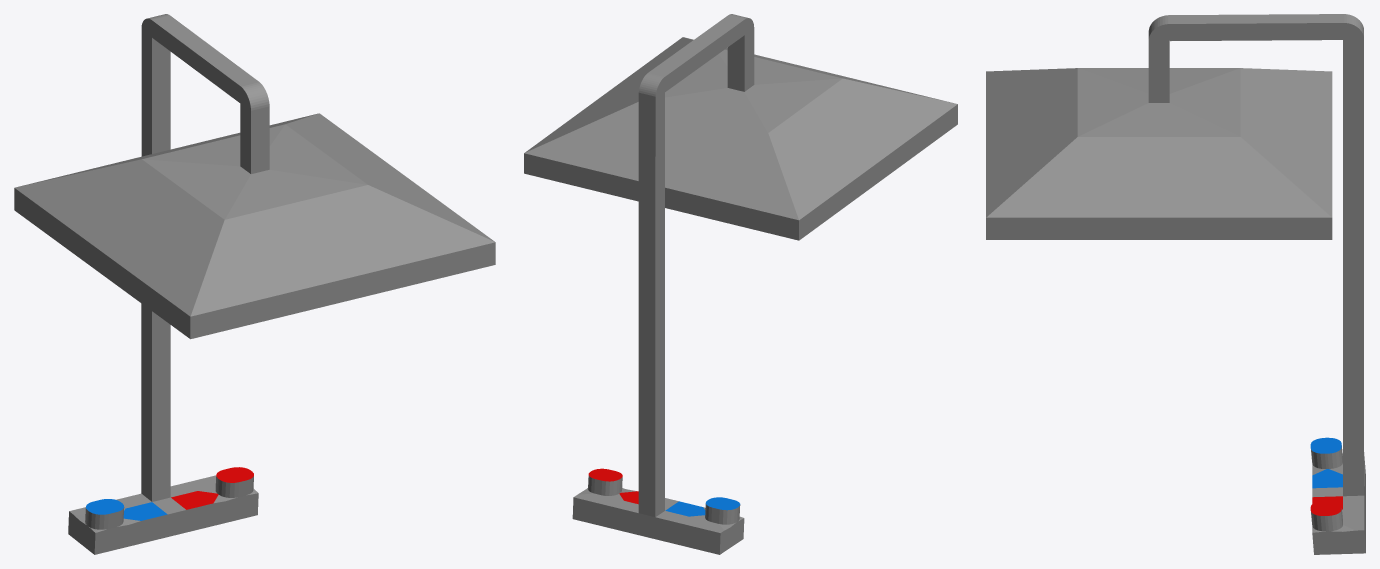
The model's file is douch.fbx.
3 renders of one model, left to right at view 1: azimuth 30°, elevation 25°; view 2: azimuth 150°, elevation 25°; view 3: azimuth 270°, elevation 25°, orthographic. The views are drawn at different scales.
Parts seen in each view (by area): view 1: douch; view 2: douch; view 3: douch.
Boxes of the visible parts, <box> form: douch: <box>14,14,495,554</box>; douch: <box>524,14,957,554</box>; douch: <box>986,14,1365,554</box>.
Bounding box in the file's own units: 2387 × 3783 × 2619.
